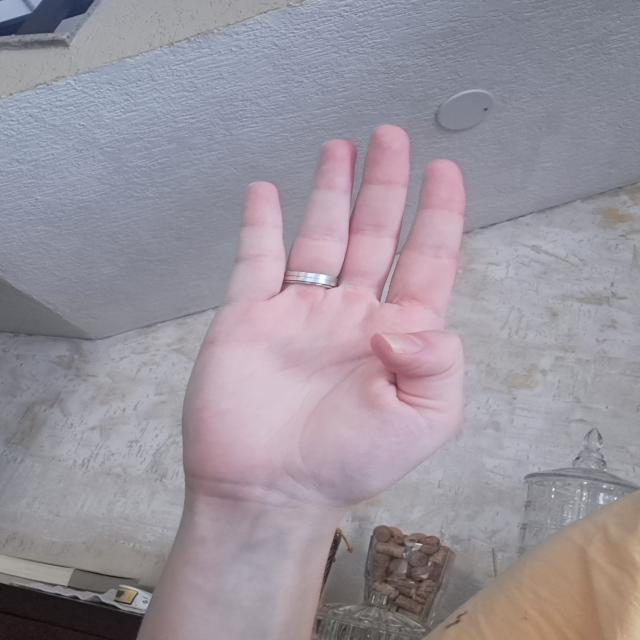B: (180, 116, 484, 502)
